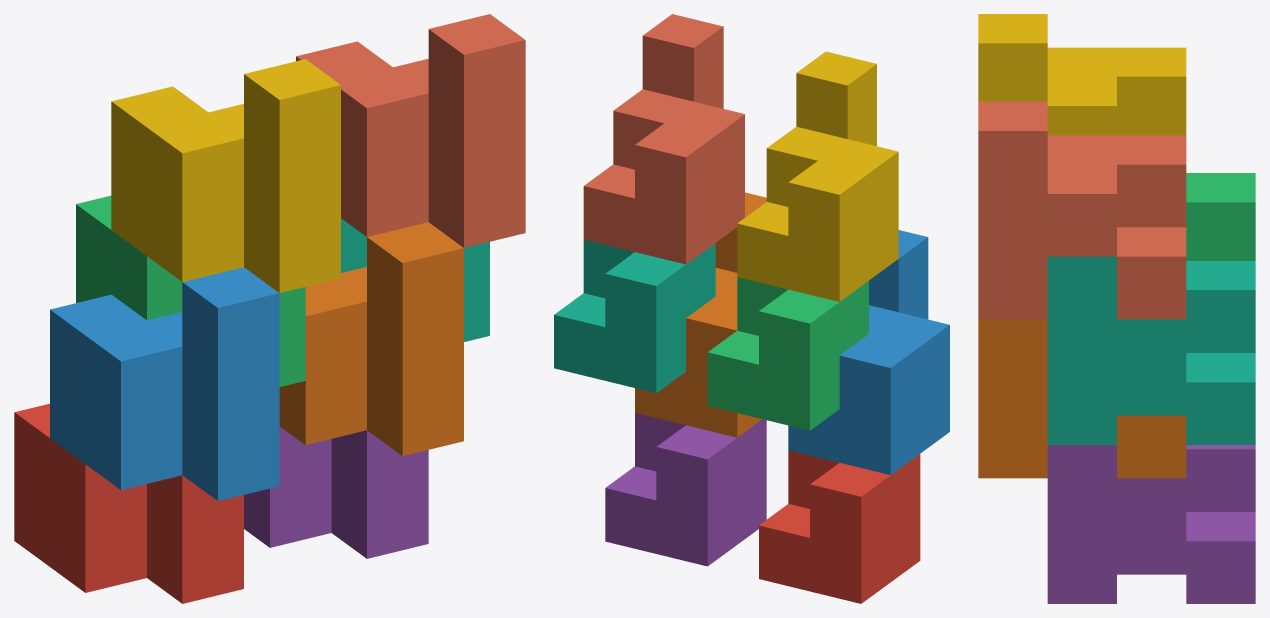
The model's file is tiling.obj.
3 renders of one model, left to right at view 1: azimuth 30°, elevation 25°; view 2: azimuth 150°, elevation 25°; view 3: azimuth 270°, elevation 25°, orthographic. The views are drawn at different scales.
Parts seen in each view (by area): view 1: copy_1_domain_2, copy_1_domain_4, copy_1_domain_8, copy_1_domain_6, copy_1_domain_1, copy_1_domain_5, copy_1_domain_3, copy_1_domain_7; view 2: copy_1_domain_4, copy_1_domain_8, copy_1_domain_2, copy_1_domain_1, copy_1_domain_5, copy_1_domain_3, copy_1_domain_7, copy_1_domain_6; view 3: copy_1_domain_8, copy_1_domain_7, copy_1_domain_5, copy_1_domain_4, copy_1_domain_6, copy_1_domain_3.
Boxes of the visible parts, left/top/right/bottom form: copy_1_domain_2: left=50, top=267, right=279, bottom=500; copy_1_domain_4: left=111, top=59, right=340, bottom=292; copy_1_domain_8: left=296, top=14, right=525, bottom=247; copy_1_domain_6: left=279, top=222, right=463, bottom=455; copy_1_domain_1: left=14, top=403, right=243, bottom=603; copy_1_domain_5: left=244, top=426, right=428, bottom=558; copy_1_domain_3: left=76, top=195, right=305, bottom=386; copy_1_domain_7: left=341, top=218, right=489, bottom=341; copy_1_domain_4: left=737, top=51, right=898, bottom=301; copy_1_domain_8: left=583, top=14, right=744, bottom=264; copy_1_domain_2: left=788, top=230, right=949, bottom=474; copy_1_domain_1: left=759, top=450, right=920, bottom=603; copy_1_domain_5: left=605, top=413, right=766, bottom=566; copy_1_domain_3: left=707, top=277, right=868, bottom=430; copy_1_domain_7: left=554, top=239, right=715, bottom=393; copy_1_domain_6: left=635, top=192, right=766, bottom=437; copy_1_domain_8: left=978, top=101, right=1186, bottom=319; copy_1_domain_7: left=1047, top=256, right=1255, bottom=444; copy_1_domain_5: left=1047, top=445, right=1255, bottom=603; copy_1_domain_4: left=978, top=14, right=1186, bottom=135; copy_1_domain_6: left=978, top=319, right=1186, bottom=478; copy_1_domain_3: left=1186, top=173, right=1255, bottom=260.
Size of the model in its own units: 6 by 8 by 4.
